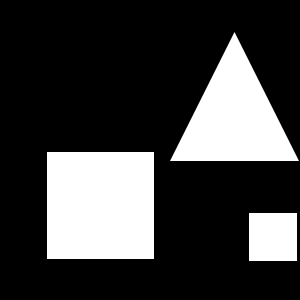circle: (47, 152, 154, 259), (249, 213, 297, 261)
triangle: (170, 32, 299, 161)
